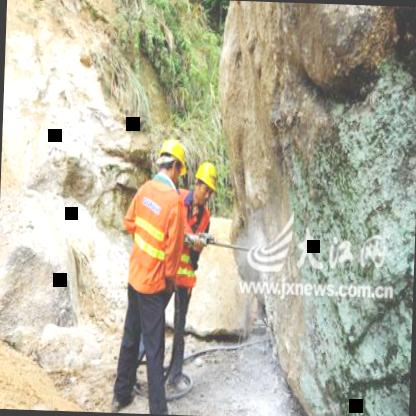helmet: (156, 139, 191, 184), (192, 159, 221, 207)
